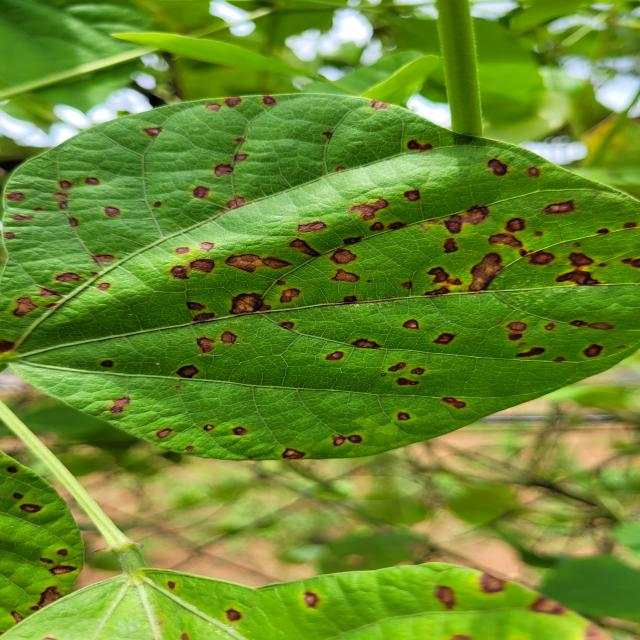Dolicos bean_cercospora leaf spot: (0, 84, 640, 457), (207, 562, 614, 640)
